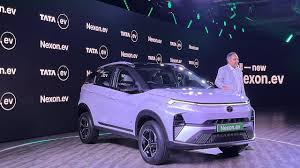Tata Nexon: (73, 59, 260, 166)
